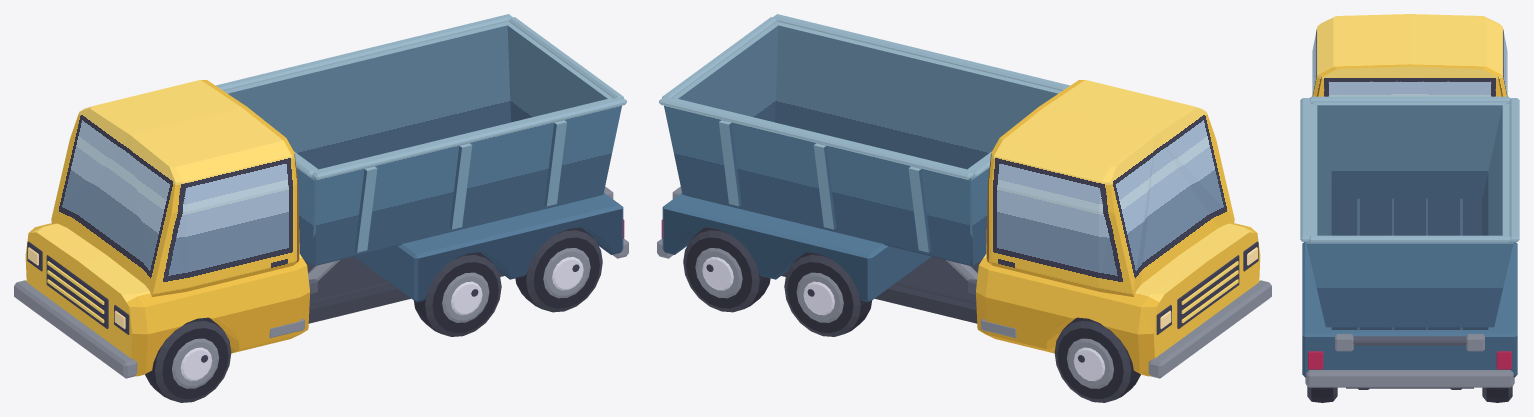
3 views of the same model, side by side, from view 1: azimuth 30°, elevation 25°; view 2: azimuth 150°, elevation 25°; view 3: azimuth 270°, elevation 25° (orthographic). The views are drawn at different scales.
Visible parts, largest first — view 1: Body_static, Dump_Bed, Dump_Tailgate, Wheel_FL_tire_hub, Wheel_ML_tire_hub, Wheel_RL_tire_hub; view 2: Body_static, Dump_Bed, Dump_Tailgate, Wheel_FR_tire_hub, Wheel_MR_tire_hub, Wheel_RR_tire_hub; view 3: Dump_Bed, Body_static, Dump_Tailgate, Wheel_RL_tire_hub, Wheel_RR_tire_hub.
Part boxes in pixels (<box>): Body_static: <box>14,80,628,378</box>; Dump_Bed: <box>216,14,626,266</box>; Dump_Tailgate: <box>507,17,623,122</box>; Wheel_FL_tire_hub: <box>145,317,231,402</box>; Wheel_ML_tire_hub: <box>414,252,501,336</box>; Wheel_RL_tire_hub: <box>515,227,602,312</box>; Body_static: <box>657,80,1271,378</box>; Dump_Bed: <box>659,14,1069,266</box>; Dump_Tailgate: <box>662,17,778,122</box>; Wheel_FR_tire_hub: <box>1054,317,1140,402</box>; Wheel_MR_tire_hub: <box>784,252,871,336</box>; Wheel_RR_tire_hub: <box>683,227,770,312</box>; Dump_Bed: <box>1300,96,1519,329</box>; Body_static: <box>1302,14,1517,389</box>; Dump_Tailgate: <box>1306,235,1513,327</box>; Wheel_RL_tire_hub: <box>1304,376,1337,402</box>; Wheel_RR_tire_hub: <box>1482,376,1515,402</box>.
Size of the model in its own units: 111 by 48.7 by 45.22.
Materials: 2 (2 with a texture image).
